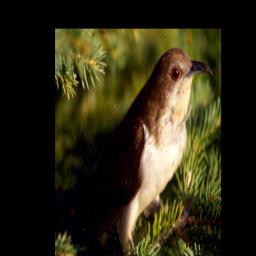Cuckoo: (62, 46, 213, 256)
